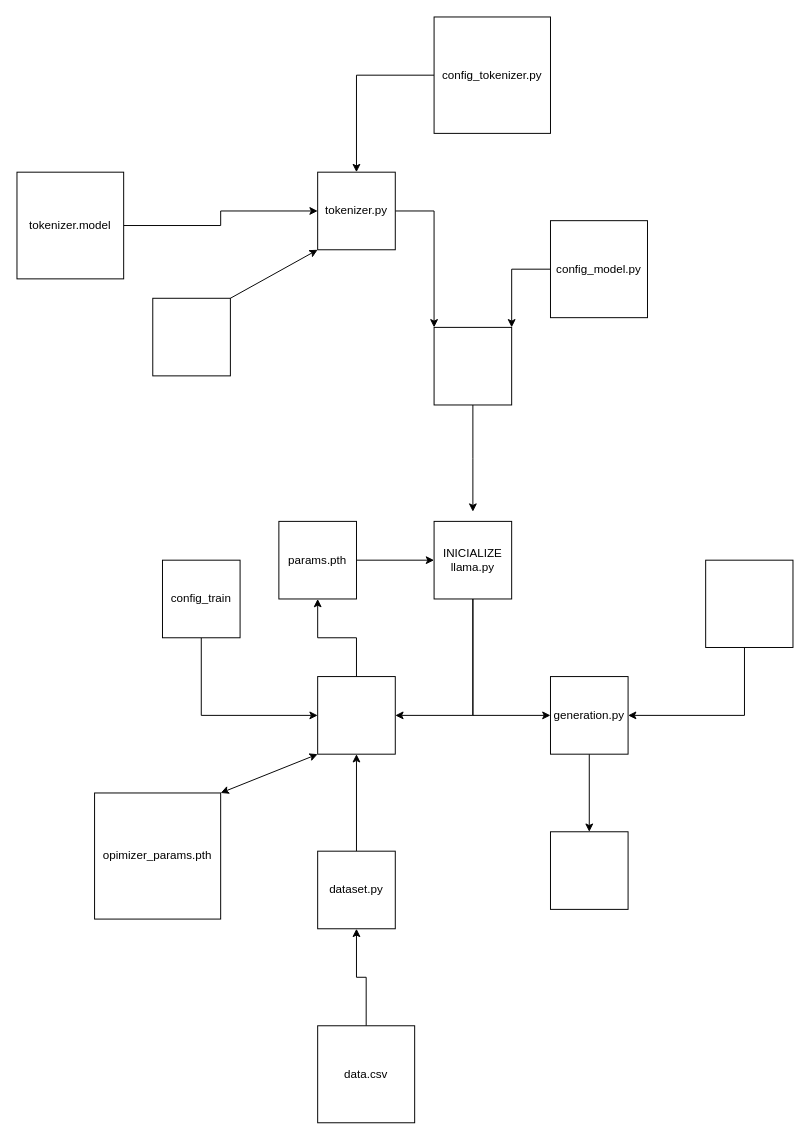
This 810x1140 diagram has some shape labels left out. Here are the shapes that lost their labels. From the top down, the centre of each, then its label:
(x=191, y=336): tokenizer.json
(x=472, y=365): LLAMA model.py
(x=749, y=603): config_ generation.py
(x=356, y=715): train.py
(x=589, y=870): GUI.py
